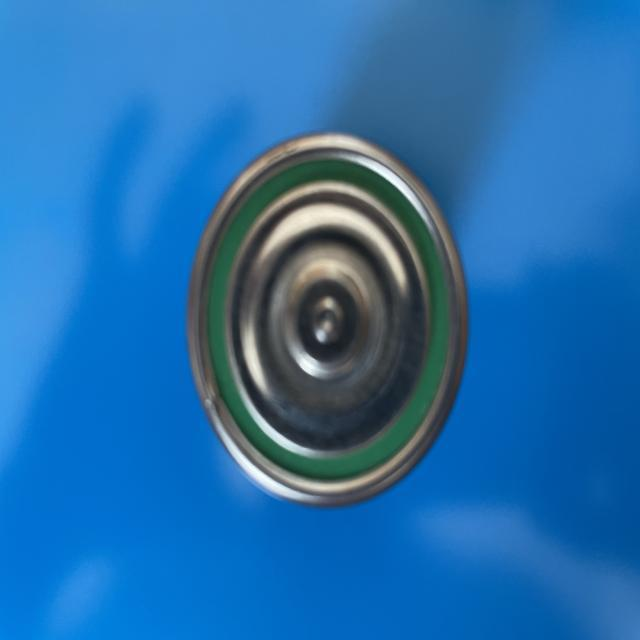hazardous waste: (180, 128, 470, 509)
